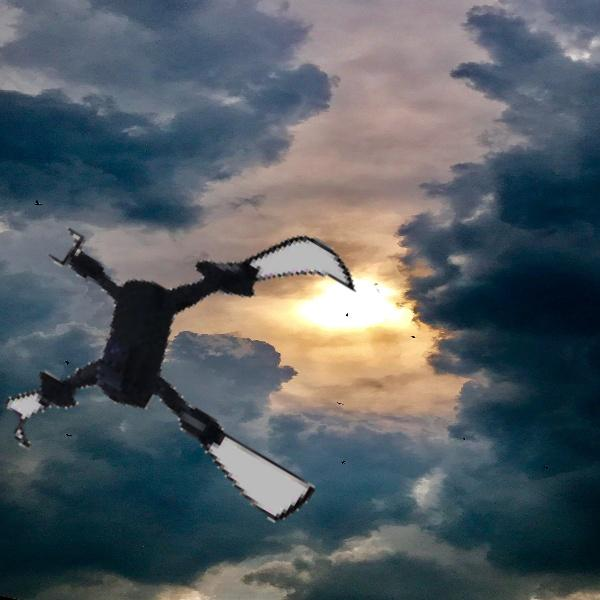drone: (14, 170, 379, 535)
